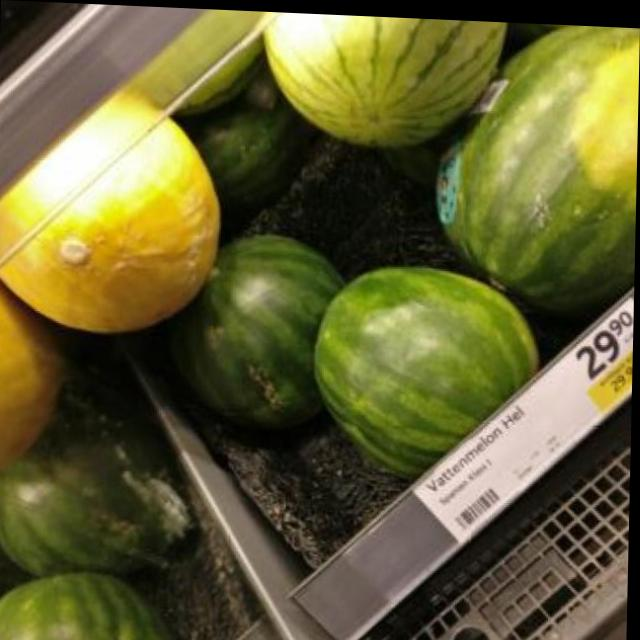Watermelon: (434, 16, 639, 309), (314, 257, 543, 477), (0, 356, 198, 577), (168, 225, 347, 427)
